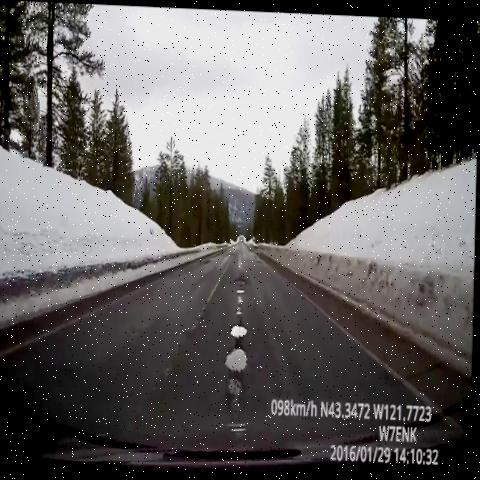pothole: (224, 341, 254, 394), (225, 313, 253, 341), (230, 284, 249, 315), (231, 268, 252, 288)
